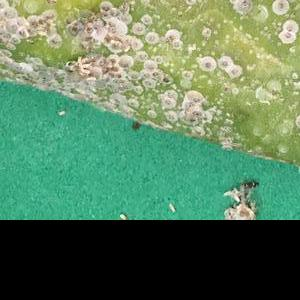Femea: (219, 55, 240, 76), (282, 20, 294, 42), (198, 55, 214, 68)
